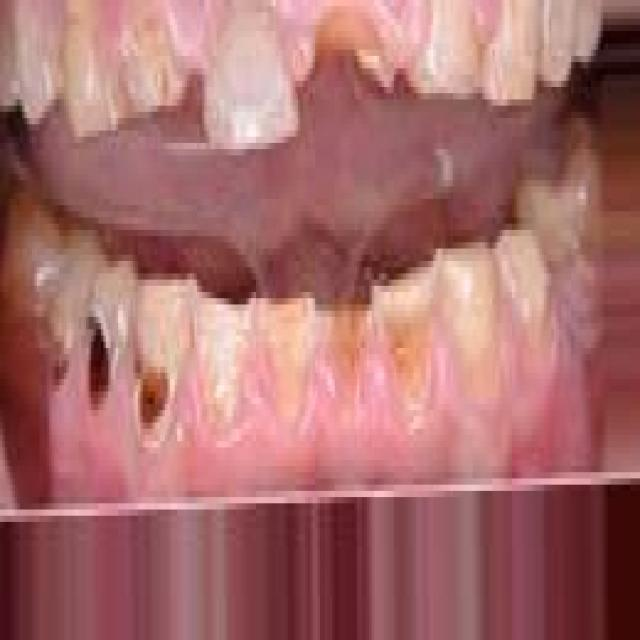caries: (288, 6, 419, 110), (445, 252, 507, 428), (376, 281, 437, 434), (27, 251, 78, 419), (499, 214, 549, 367), (129, 303, 177, 458), (191, 311, 250, 434), (124, 12, 188, 124), (60, 0, 110, 142), (81, 268, 122, 439), (264, 295, 310, 447), (323, 296, 368, 426)
